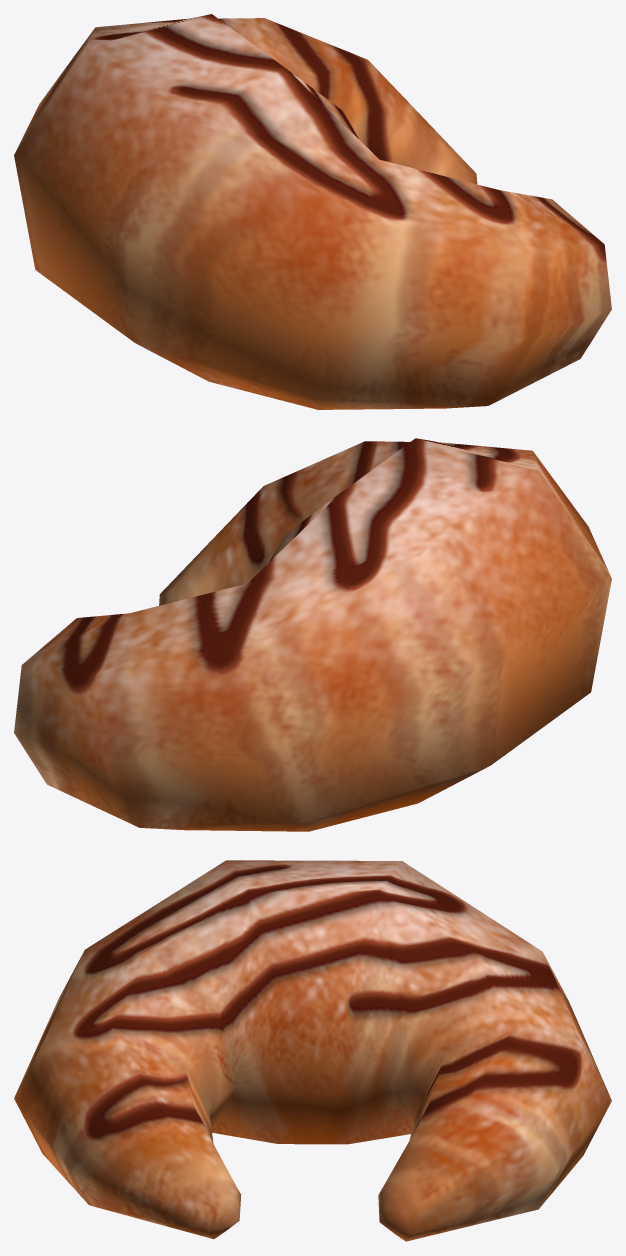
File: Croissant_02.fbx
The picture shows the model from 3 angles, top to bottom: view 1: azimuth 30°, elevation 25°; view 2: azimuth 150°, elevation 25°; view 3: azimuth 270°, elevation 25°; orthographic projection. The views are drawn at different scales.
Parts seen in each view (by area): view 1: Croissant_02; view 2: Croissant_02; view 3: Croissant_02.
Boxes of the visible parts, <box> form: Croissant_02: <box>14,14,611,409</box>; Croissant_02: <box>14,438,611,831</box>; Croissant_02: <box>14,860,611,1241</box>.
Bounding box in the file's own units: 35.3 × 21.83 × 46.15.
